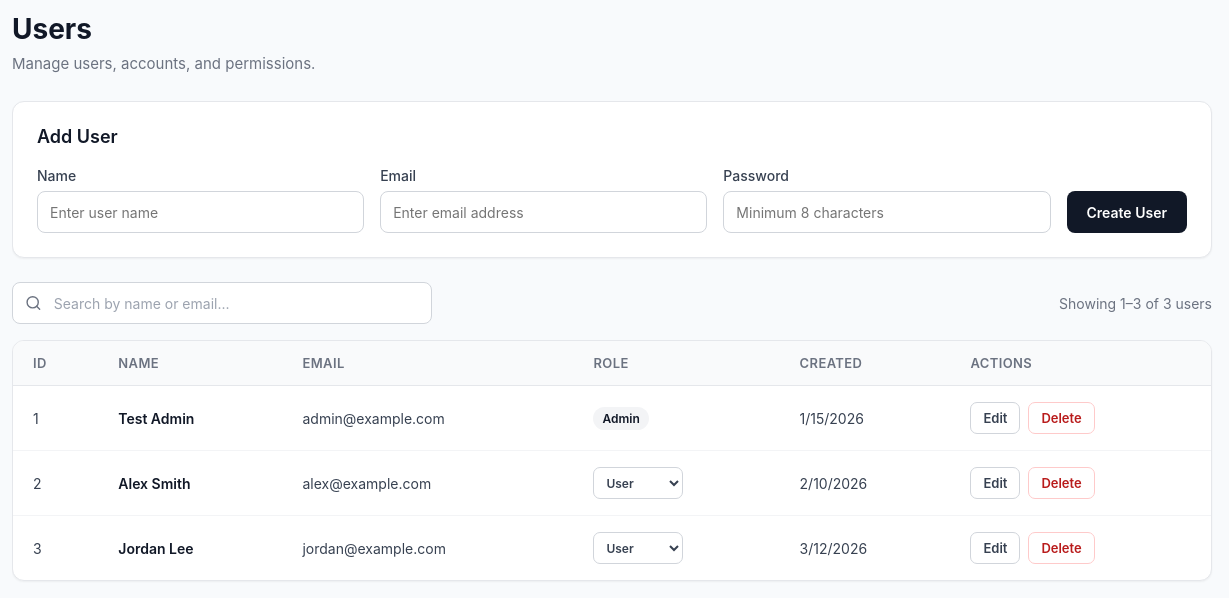
Test case: Users page › deletes a user after confirmation
Expected: the text "Alex Smith" is shown, [98,450,282,516]
Click the button "Delete" in the row of "Alex Smith" at (1062, 483), box [1028,467,1095,499]
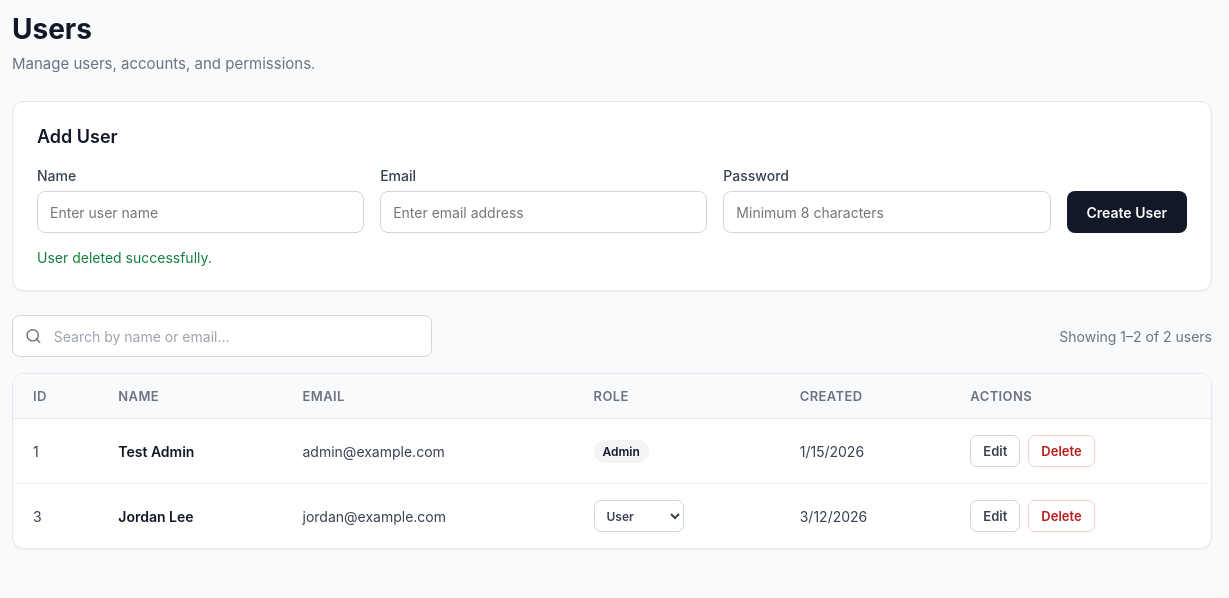
Result: the text "User deleted successfully." is shown at [37,249,212,266]
Result: the text "Alex Smith" is gone
